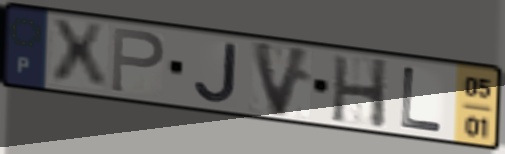H: (328, 53, 391, 132)
J: (190, 40, 240, 106)
L: (397, 64, 447, 135)
P: (108, 24, 168, 96)
V: (248, 38, 315, 121)
X: (47, 17, 111, 92)
